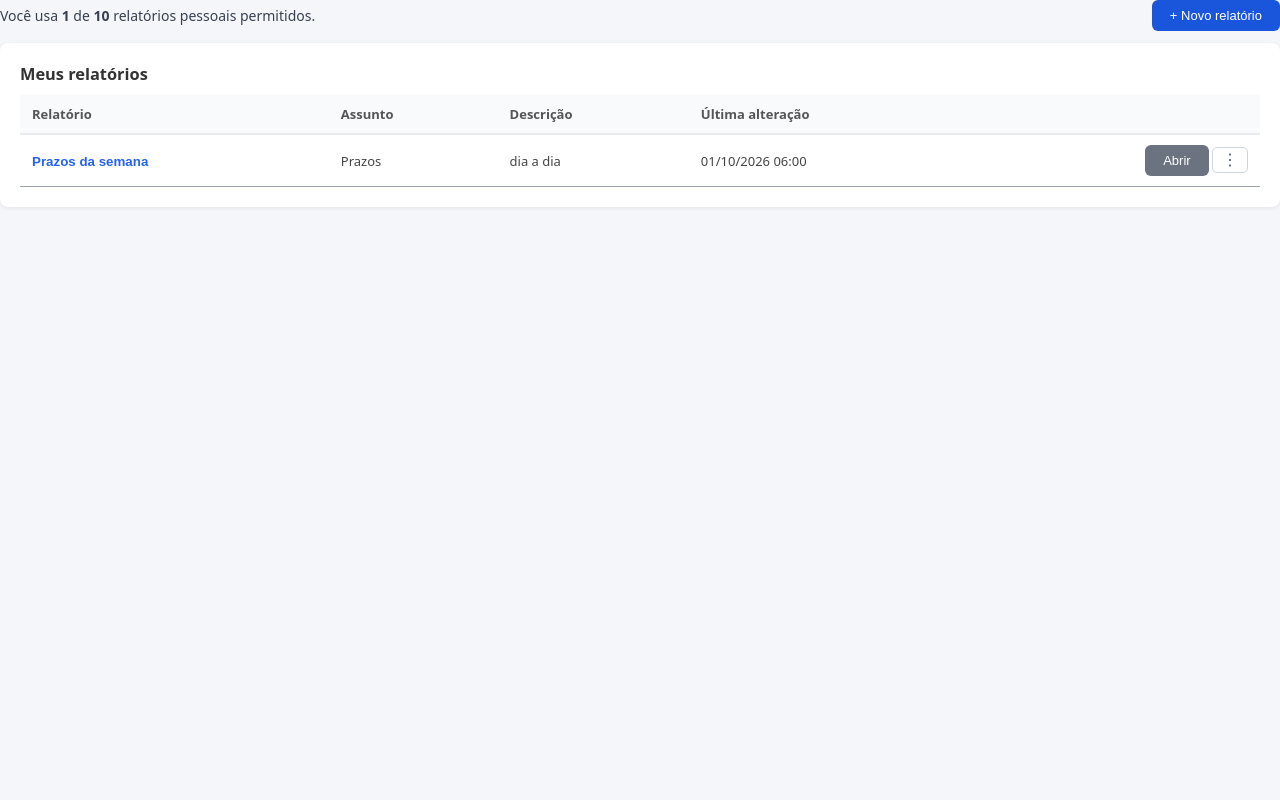
Test: Relatórios (tela nova) › salva o relatório com nome e volta para a lista
The image size is (1280, 800).
Click the button "+ Novo relatório": (1216, 16) [1152,0,1279,31]
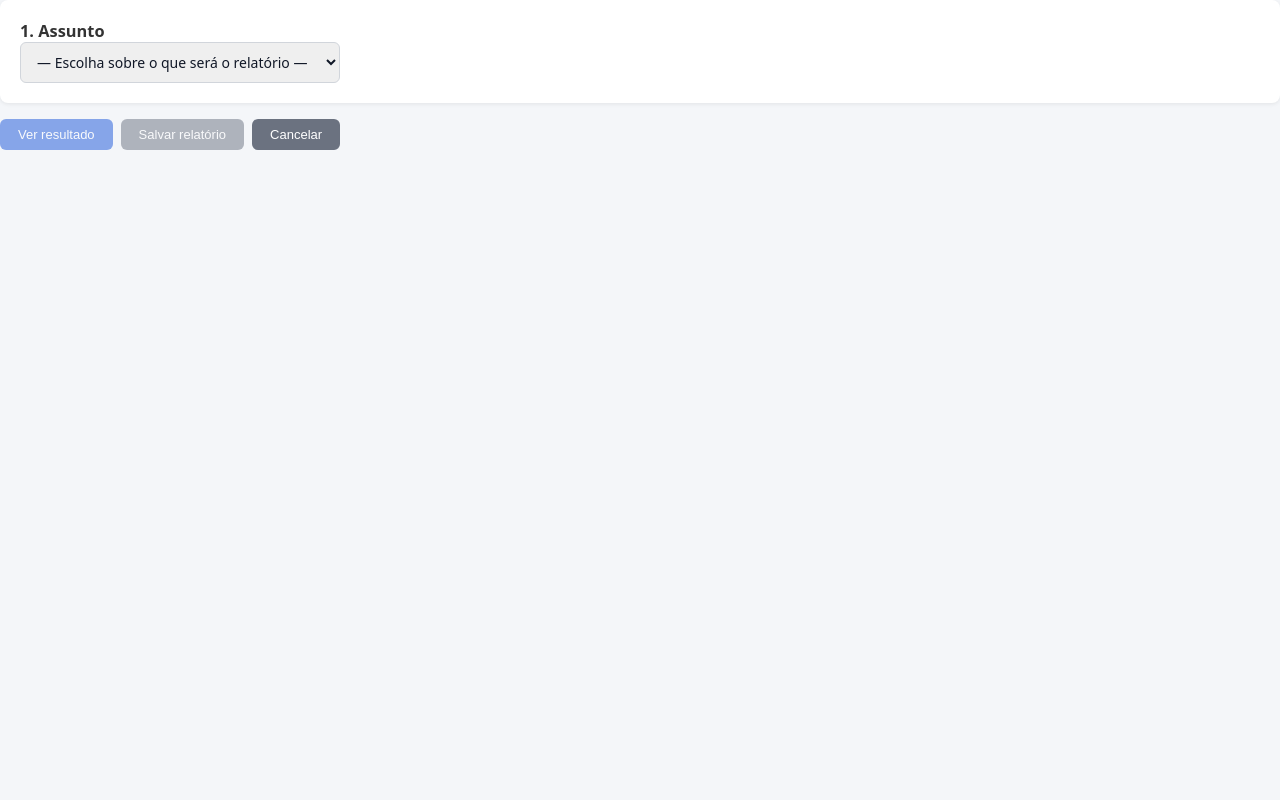
Select "Prazos" in the dropdown named "Assunto do relatório": (180, 62) [20,42,340,83]
(page scrolled)
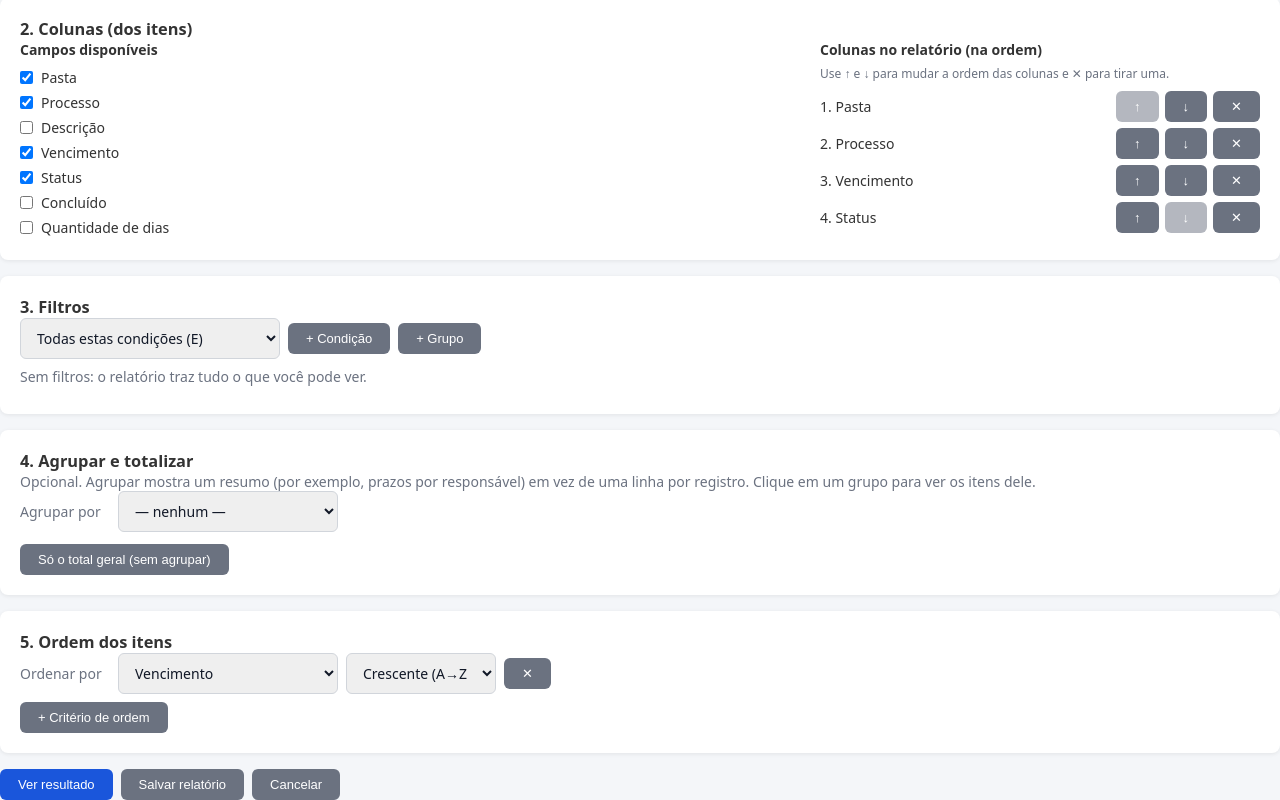
Click the button "Salvar relatório": (182, 784) [121,769,244,799]
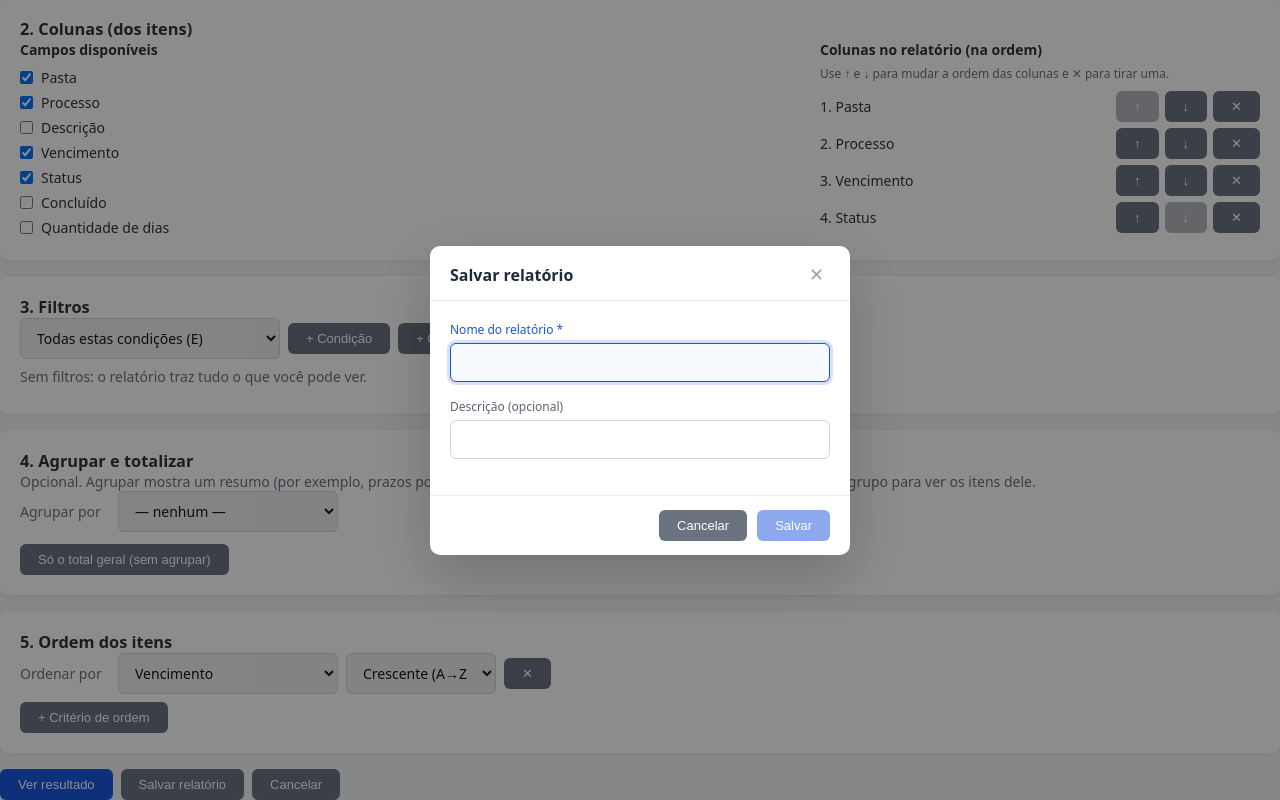
Now the button "Salvar" is disabled, box [757,510,830,540]
In the field labelled "Nome do relatório *": (640, 362) [450,342,830,382], type "  Meu relatório "
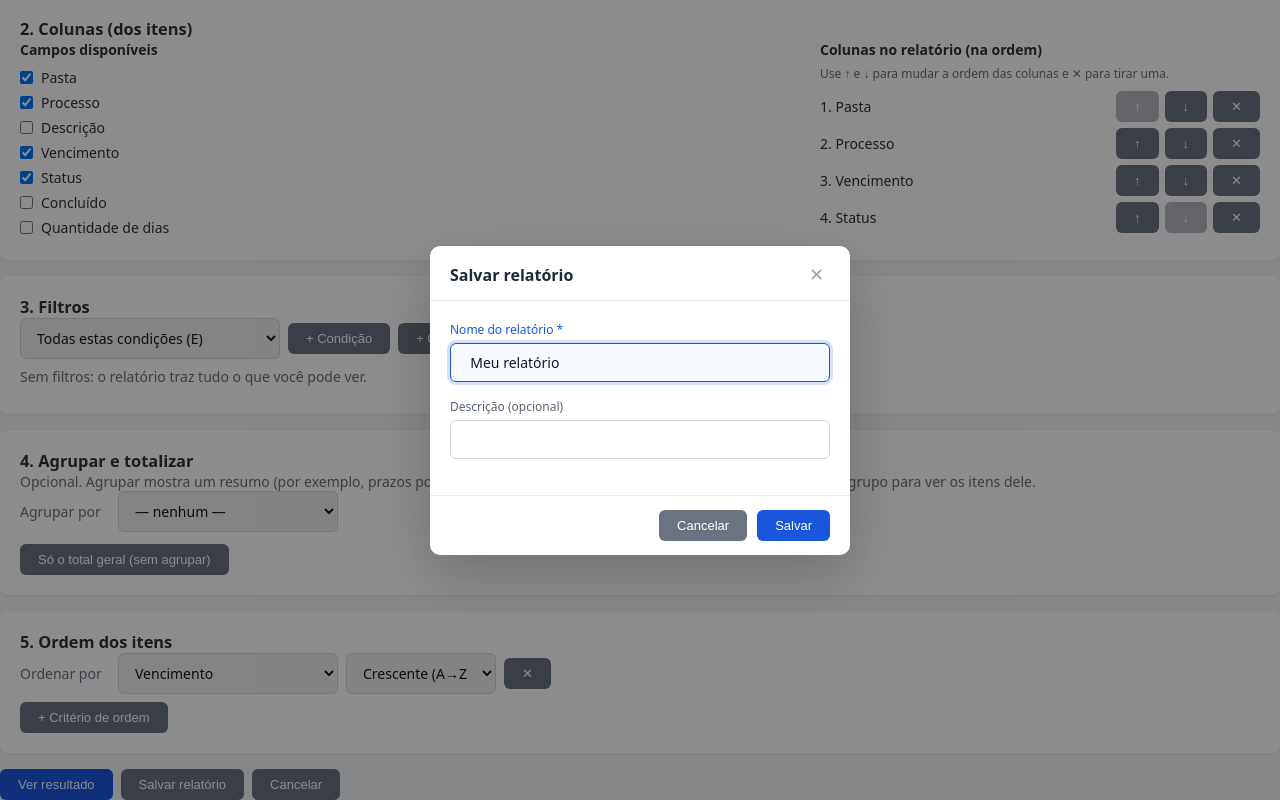
Click the button "Salvar": (794, 525) [757,510,830,540]
(page scrolled)
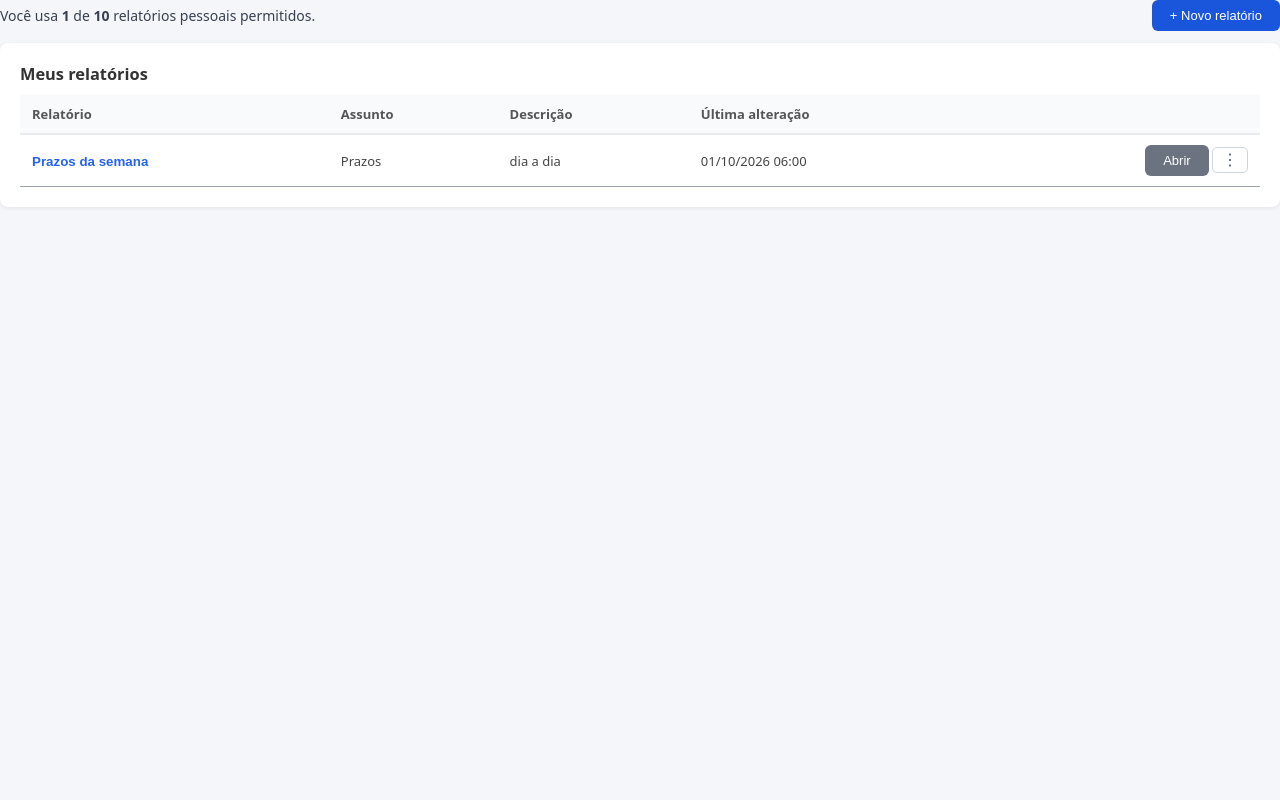
Now the button "+ Novo relatório" is shown, box [1152,0,1279,31]
